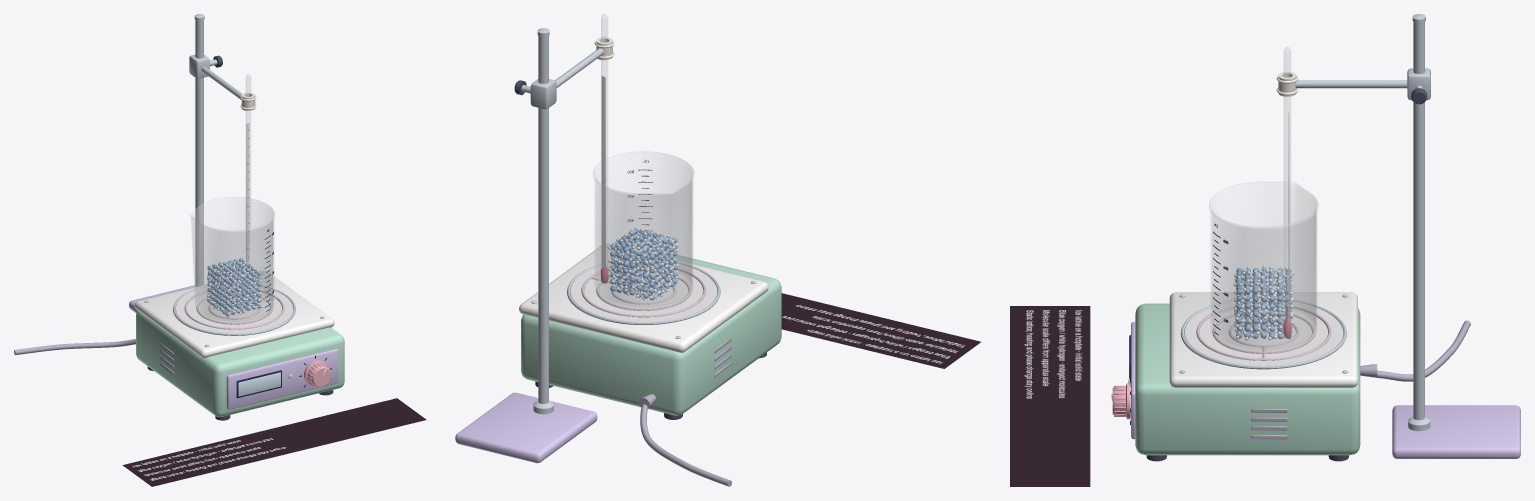
Rendered from particles.glb.
3 renders of one model, left to right at view 1: azimuth 30°, elevation 25°; view 2: azimuth 150°, elevation 25°; view 3: azimuth 270°, elevation 25°, orthographic. The views are drawn at different scales.
Parts seen in each view (by area): view 1: BEAKER_GLASS, HOTPLATE_BODY, Scale_and_credit, HOTPLATE_TOP, CERAMIC_PLATE, CONTROL_FASCIA, particles_authored_teaching_model, STAND_ROD, HEAT_COIL, THERMO_GLASS, POWER_CABLE, PLATE_TRIM (+3 smaller); view 2: HOTPLATE_BODY, BEAKER_GLASS, HOTPLATE_TOP, Scale_and_credit, STAND_BASE, CERAMIC_PLATE, STAND_ROD, particles_authored_teaching_model, THERMO_GLASS, HEAT_COIL, POWER_CABLE, PLATE_TRIM (+2 smaller); view 3: HOTPLATE_BODY, BEAKER_GLASS, Scale_and_credit, HOTPLATE_TOP, STAND_BASE, CERAMIC_PLATE, STAND_ROD, particles_authored_teaching_model, HEAT_COIL, THERMO_GLASS, PLATE_TRIM, POWER_CABLE (+5 smaller).
Part boxes in pixels (bbox=[...]): BEAKER_GLASS: bbox=[188, 197, 274, 323]; HOTPLATE_BODY: bbox=[136, 310, 344, 416]; Scale_and_credit: bbox=[122, 398, 426, 486]; HOTPLATE_TOP: bbox=[134, 270, 334, 358]; CERAMIC_PLATE: bbox=[175, 286, 293, 333]; CONTROL_FASCIA: bbox=[226, 349, 338, 409]; particles_authored_teaching_model: bbox=[207, 258, 262, 317]; STAND_ROD: bbox=[194, 14, 204, 286]; HEAT_COIL: bbox=[184, 290, 284, 329]; THERMO_GLASS: bbox=[246, 74, 250, 262]; POWER_CABLE: bbox=[14, 339, 135, 355]; PLATE_TRIM: bbox=[173, 285, 295, 335]; HOTPLATE_BODY: bbox=[521, 255, 781, 415]; BEAKER_GLASS: bbox=[593, 151, 694, 309]; HOTPLATE_TOP: bbox=[519, 243, 768, 352]; Scale_and_credit: bbox=[781, 293, 980, 368]; STAND_BASE: bbox=[455, 392, 597, 463]; CERAMIC_PLATE: bbox=[570, 263, 717, 321]; STAND_ROD: bbox=[533, 28, 553, 414]; particles_authored_teaching_model: bbox=[607, 228, 678, 300]; THERMO_GLASS: bbox=[600, 14, 608, 283]; HEAT_COIL: bbox=[581, 268, 706, 317]; POWER_CABLE: bbox=[639, 394, 731, 486]; PLATE_TRIM: bbox=[567, 262, 720, 324]; HOTPLATE_BODY: bbox=[1135, 303, 1360, 455]; BEAKER_GLASS: bbox=[1209, 181, 1318, 352]; Scale_and_credit: bbox=[1010, 306, 1090, 486]; HOTPLATE_TOP: bbox=[1169, 292, 1357, 387]; STAND_BASE: bbox=[1392, 405, 1520, 458]; CERAMIC_PLATE: bbox=[1184, 299, 1343, 365]; STAND_ROD: bbox=[1408, 14, 1430, 431]; particles_authored_teaching_model: bbox=[1233, 265, 1293, 340]; HEAT_COIL: bbox=[1196, 305, 1331, 360]; THERMO_GLASS: bbox=[1283, 47, 1291, 338]; PLATE_TRIM: bbox=[1180, 298, 1346, 369]; POWER_CABLE: bbox=[1360, 320, 1470, 381].
Bounding box in the file's own units: 0.4 × 0.4365 × 0.477.
Materials: 360 (1 with a texture image).
